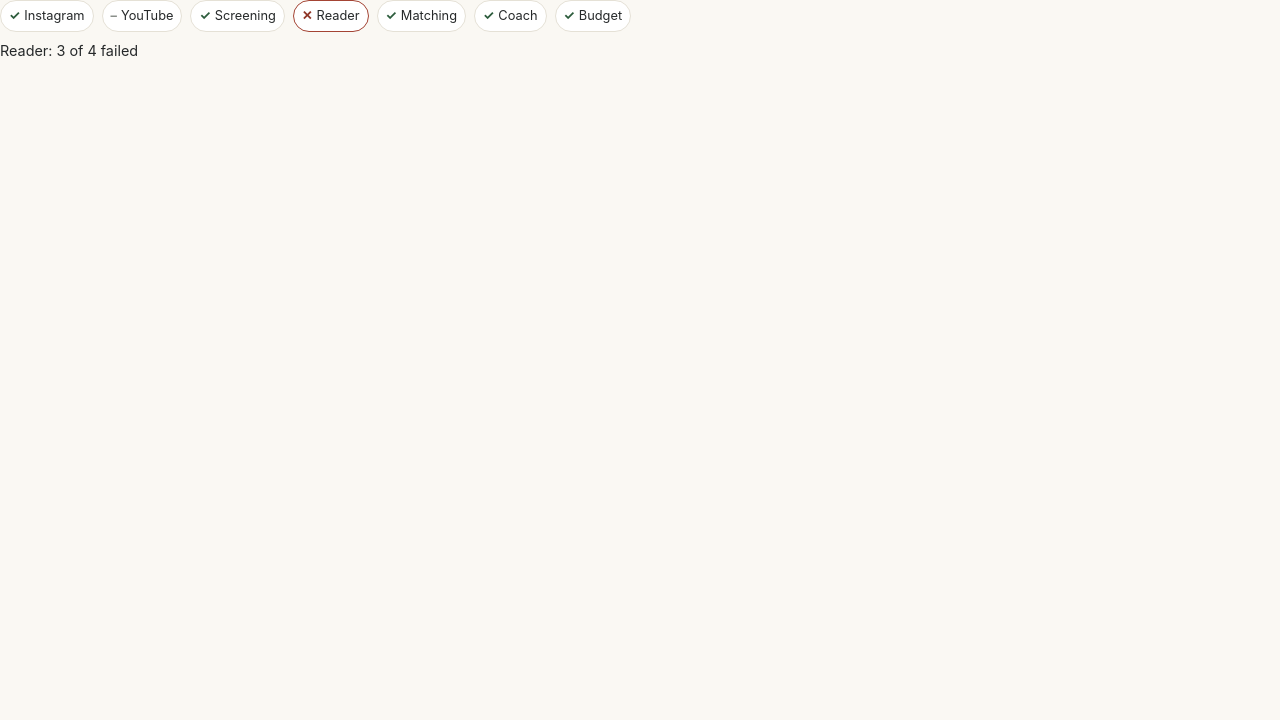
Scenario: the health row › a failure's post opens its trail
Step 1. Click the button with class "health-light" showing "✕ Reader" → (331, 16), box [293,0,369,32]
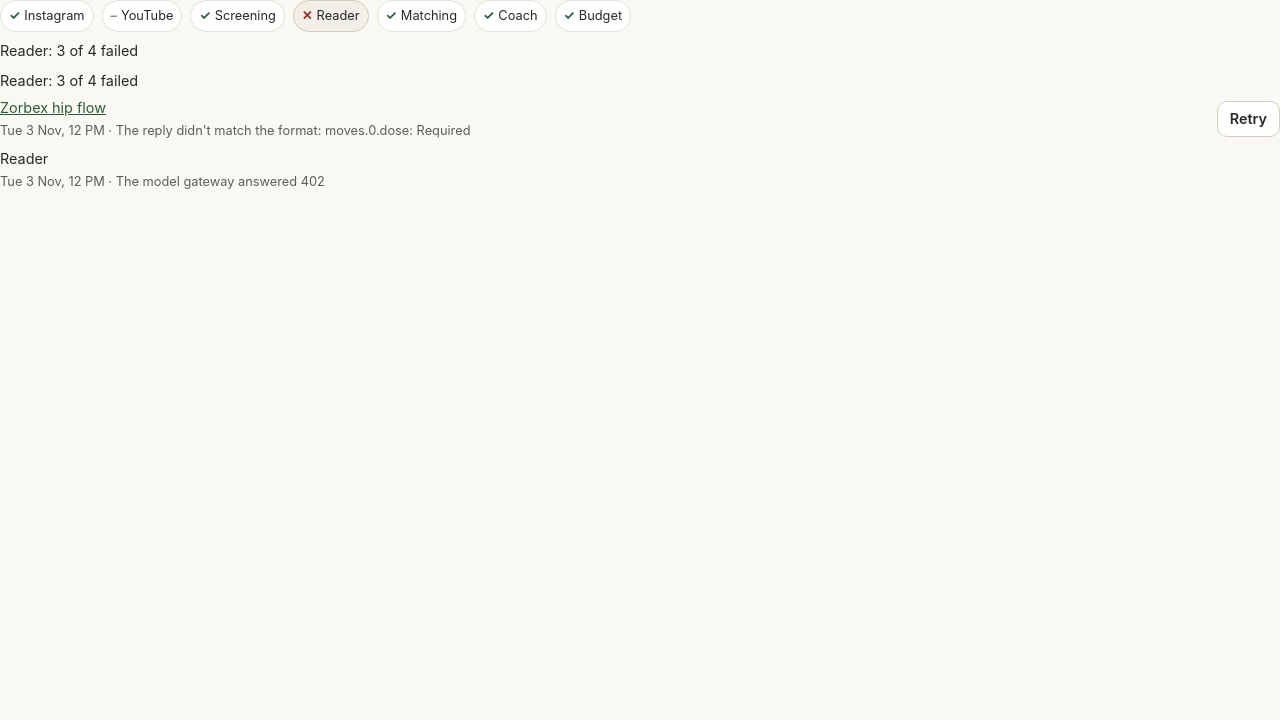
Step 2. Click the button with class "health-failure-title" showing "Zorbex hip flow" → (53, 108), box [0,97,106,119]
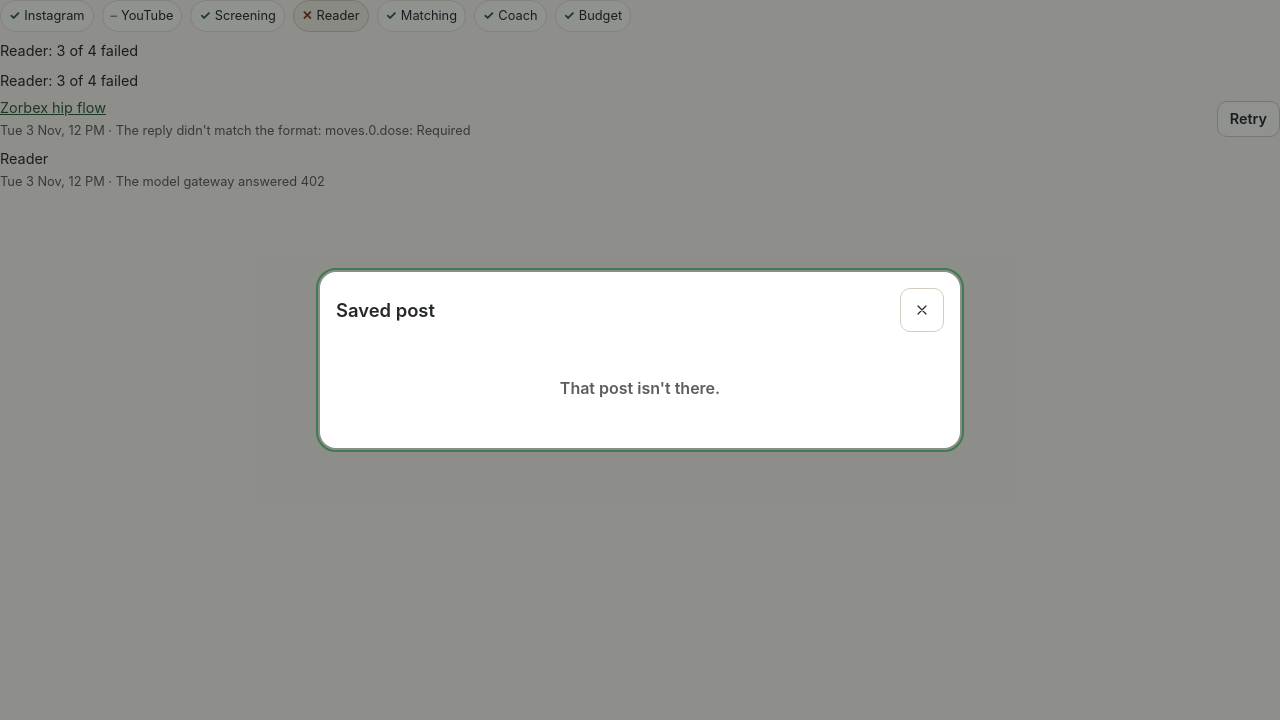
Now the dialog is shown, box [320,272,960,448]
